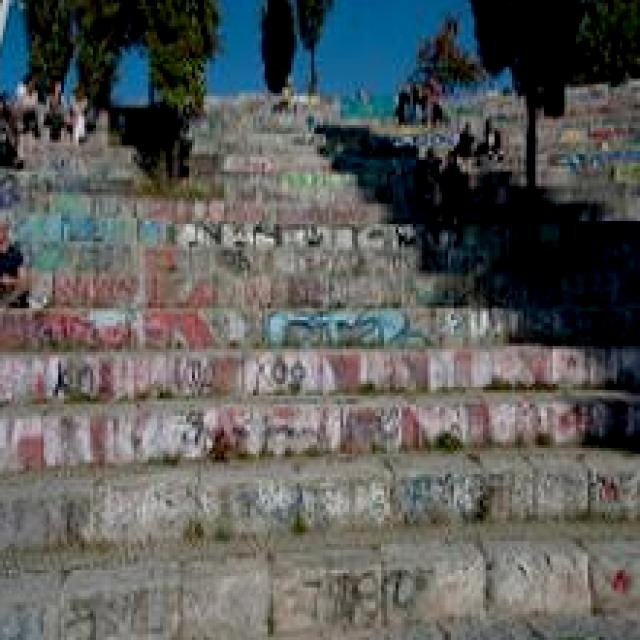upstair: (7, 298, 640, 621)
